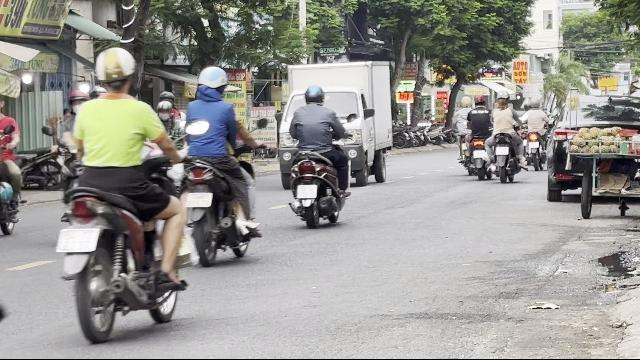helmet: (92, 46, 138, 94), (194, 66, 228, 98), (303, 84, 325, 104)
licenseplate: (57, 228, 97, 252), (185, 192, 211, 206), (296, 184, 318, 198)
motorcyclist: (51, 46, 193, 342), (173, 62, 261, 266), (281, 84, 351, 228)
